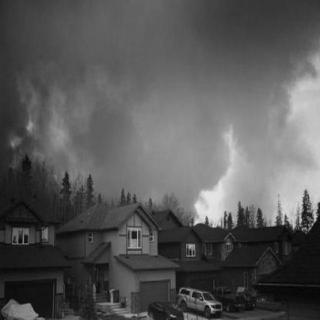Smoke: (5, 8, 303, 136)
